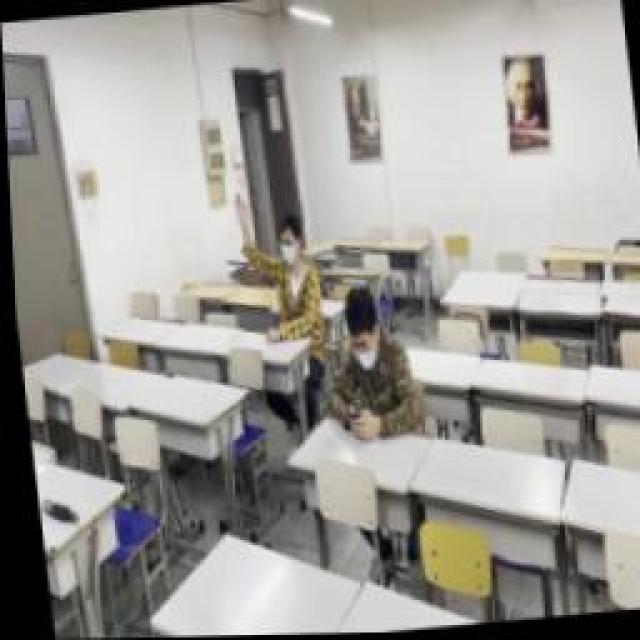phone: (315, 282, 415, 440)
study: (230, 187, 320, 345)
